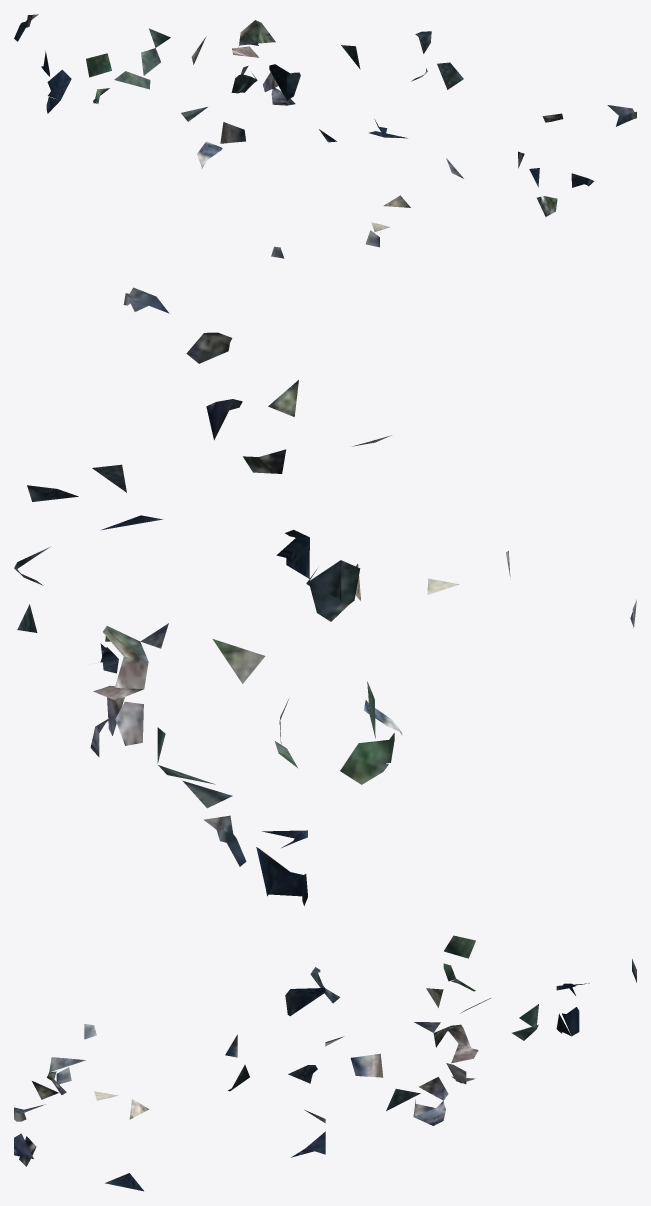
3 renders of one model, top to bottom at view 1: azimuth 30°, elevation 25°; view 2: azimuth 150°, elevation 25°; view 3: azimuth 270°, elevation 25°, orthographic. The views are drawn at different scales.
Parts seen in each view (by area): view 1: 30436272704370424632_1; view 2: 30436272704370424632_1; view 3: 30436272704370424632_1.
Boxes of the visible parts, box(x1,y1,x2,y2) form: 30436272704370424632_1: box(14, 14, 636, 258); 30436272704370424632_1: box(14, 287, 636, 905); 30436272704370424632_1: box(14, 935, 636, 1191).
Bounding box in the file's own units: 27.32 × 7.4 × 38.25.
Materials: 1 (1 with a texture image).
